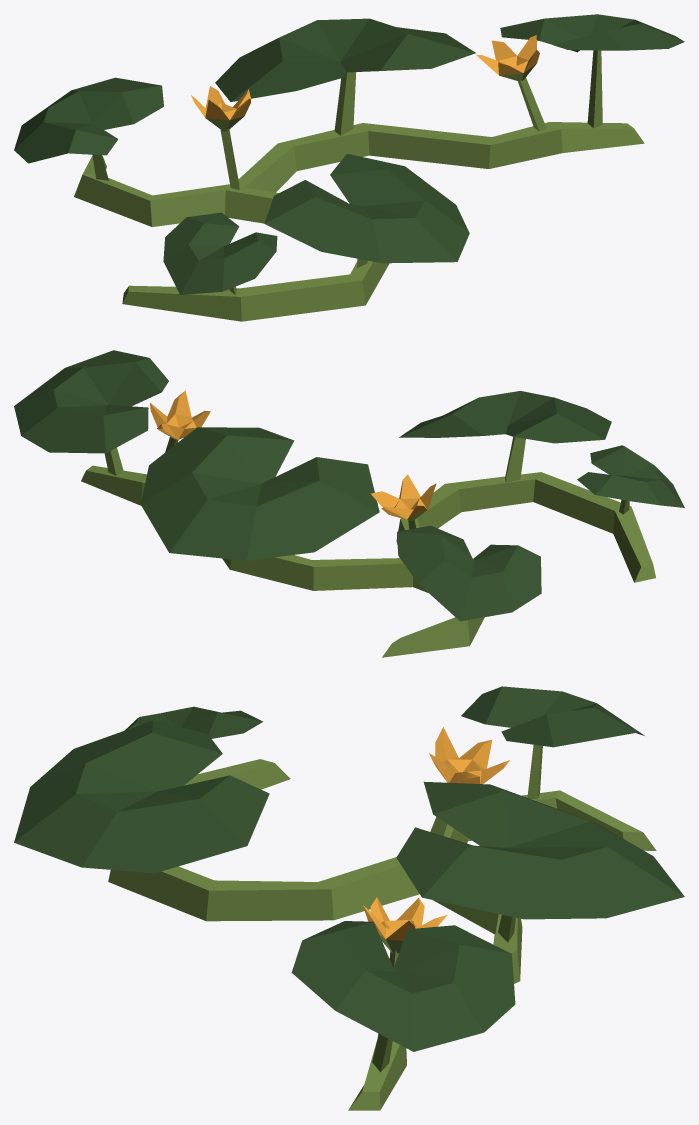
File: SM_Prop_Plant_Ground_01_L2.glb
The picture shows the model from 3 angles, top to bottom: view 1: azimuth 30°, elevation 25°; view 2: azimuth 150°, elevation 25°; view 3: azimuth 270°, elevation 25°; orthographic projection. The views are drawn at different scales.
Visible parts, largest first — view 1: SM_Prop_Plant_Ground_01_L2; view 2: SM_Prop_Plant_Ground_01_L2; view 3: SM_Prop_Plant_Ground_01_L2.
Part boxes in pixels (box(x1,y1,x2,y2)): SM_Prop_Plant_Ground_01_L2: box(14, 14, 684, 321); SM_Prop_Plant_Ground_01_L2: box(14, 350, 684, 657); SM_Prop_Plant_Ground_01_L2: box(14, 686, 684, 1110).
Bounding box in the file's own units: 1.89 × 0.3654 × 1.43.
1 material, 1 textured.
